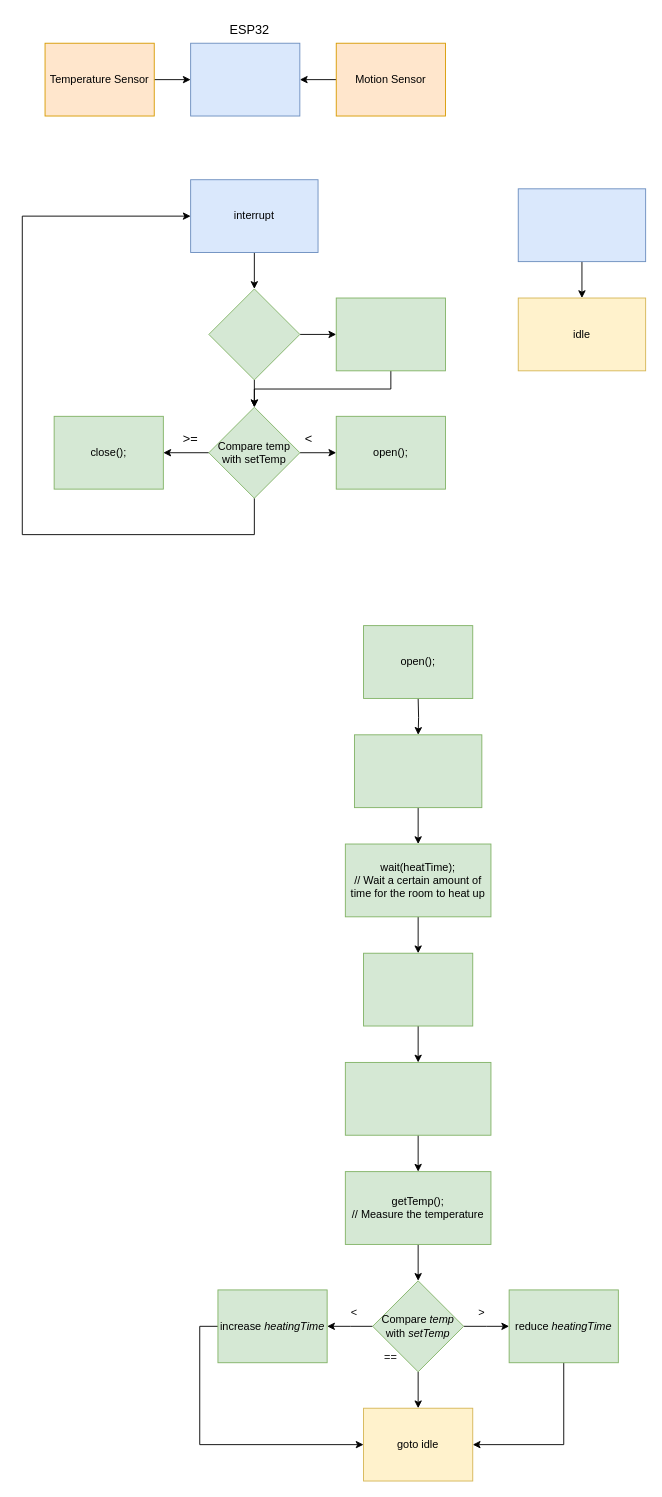
The diagram is 662 pixels wide and 1497 high, and some of its shapes have lost their labels. Each missing label, with the centre of its shape:
"check motion sensor" belongs at point (254, 334).
"close(); // Close the vent" belongs at point (418, 989).
"getTime(); // Take note of the time" belongs at point (418, 771).
"main()" belongs at point (581, 225).
"prioritize room" belongs at point (390, 334).
"Vent double temp; double setTemp; double heatingTime;" belongs at point (245, 79).
"wait(1*60*1000); (1 min) // Wait for heat to dissipate a bit close to the vent" belongs at point (417, 1098).
